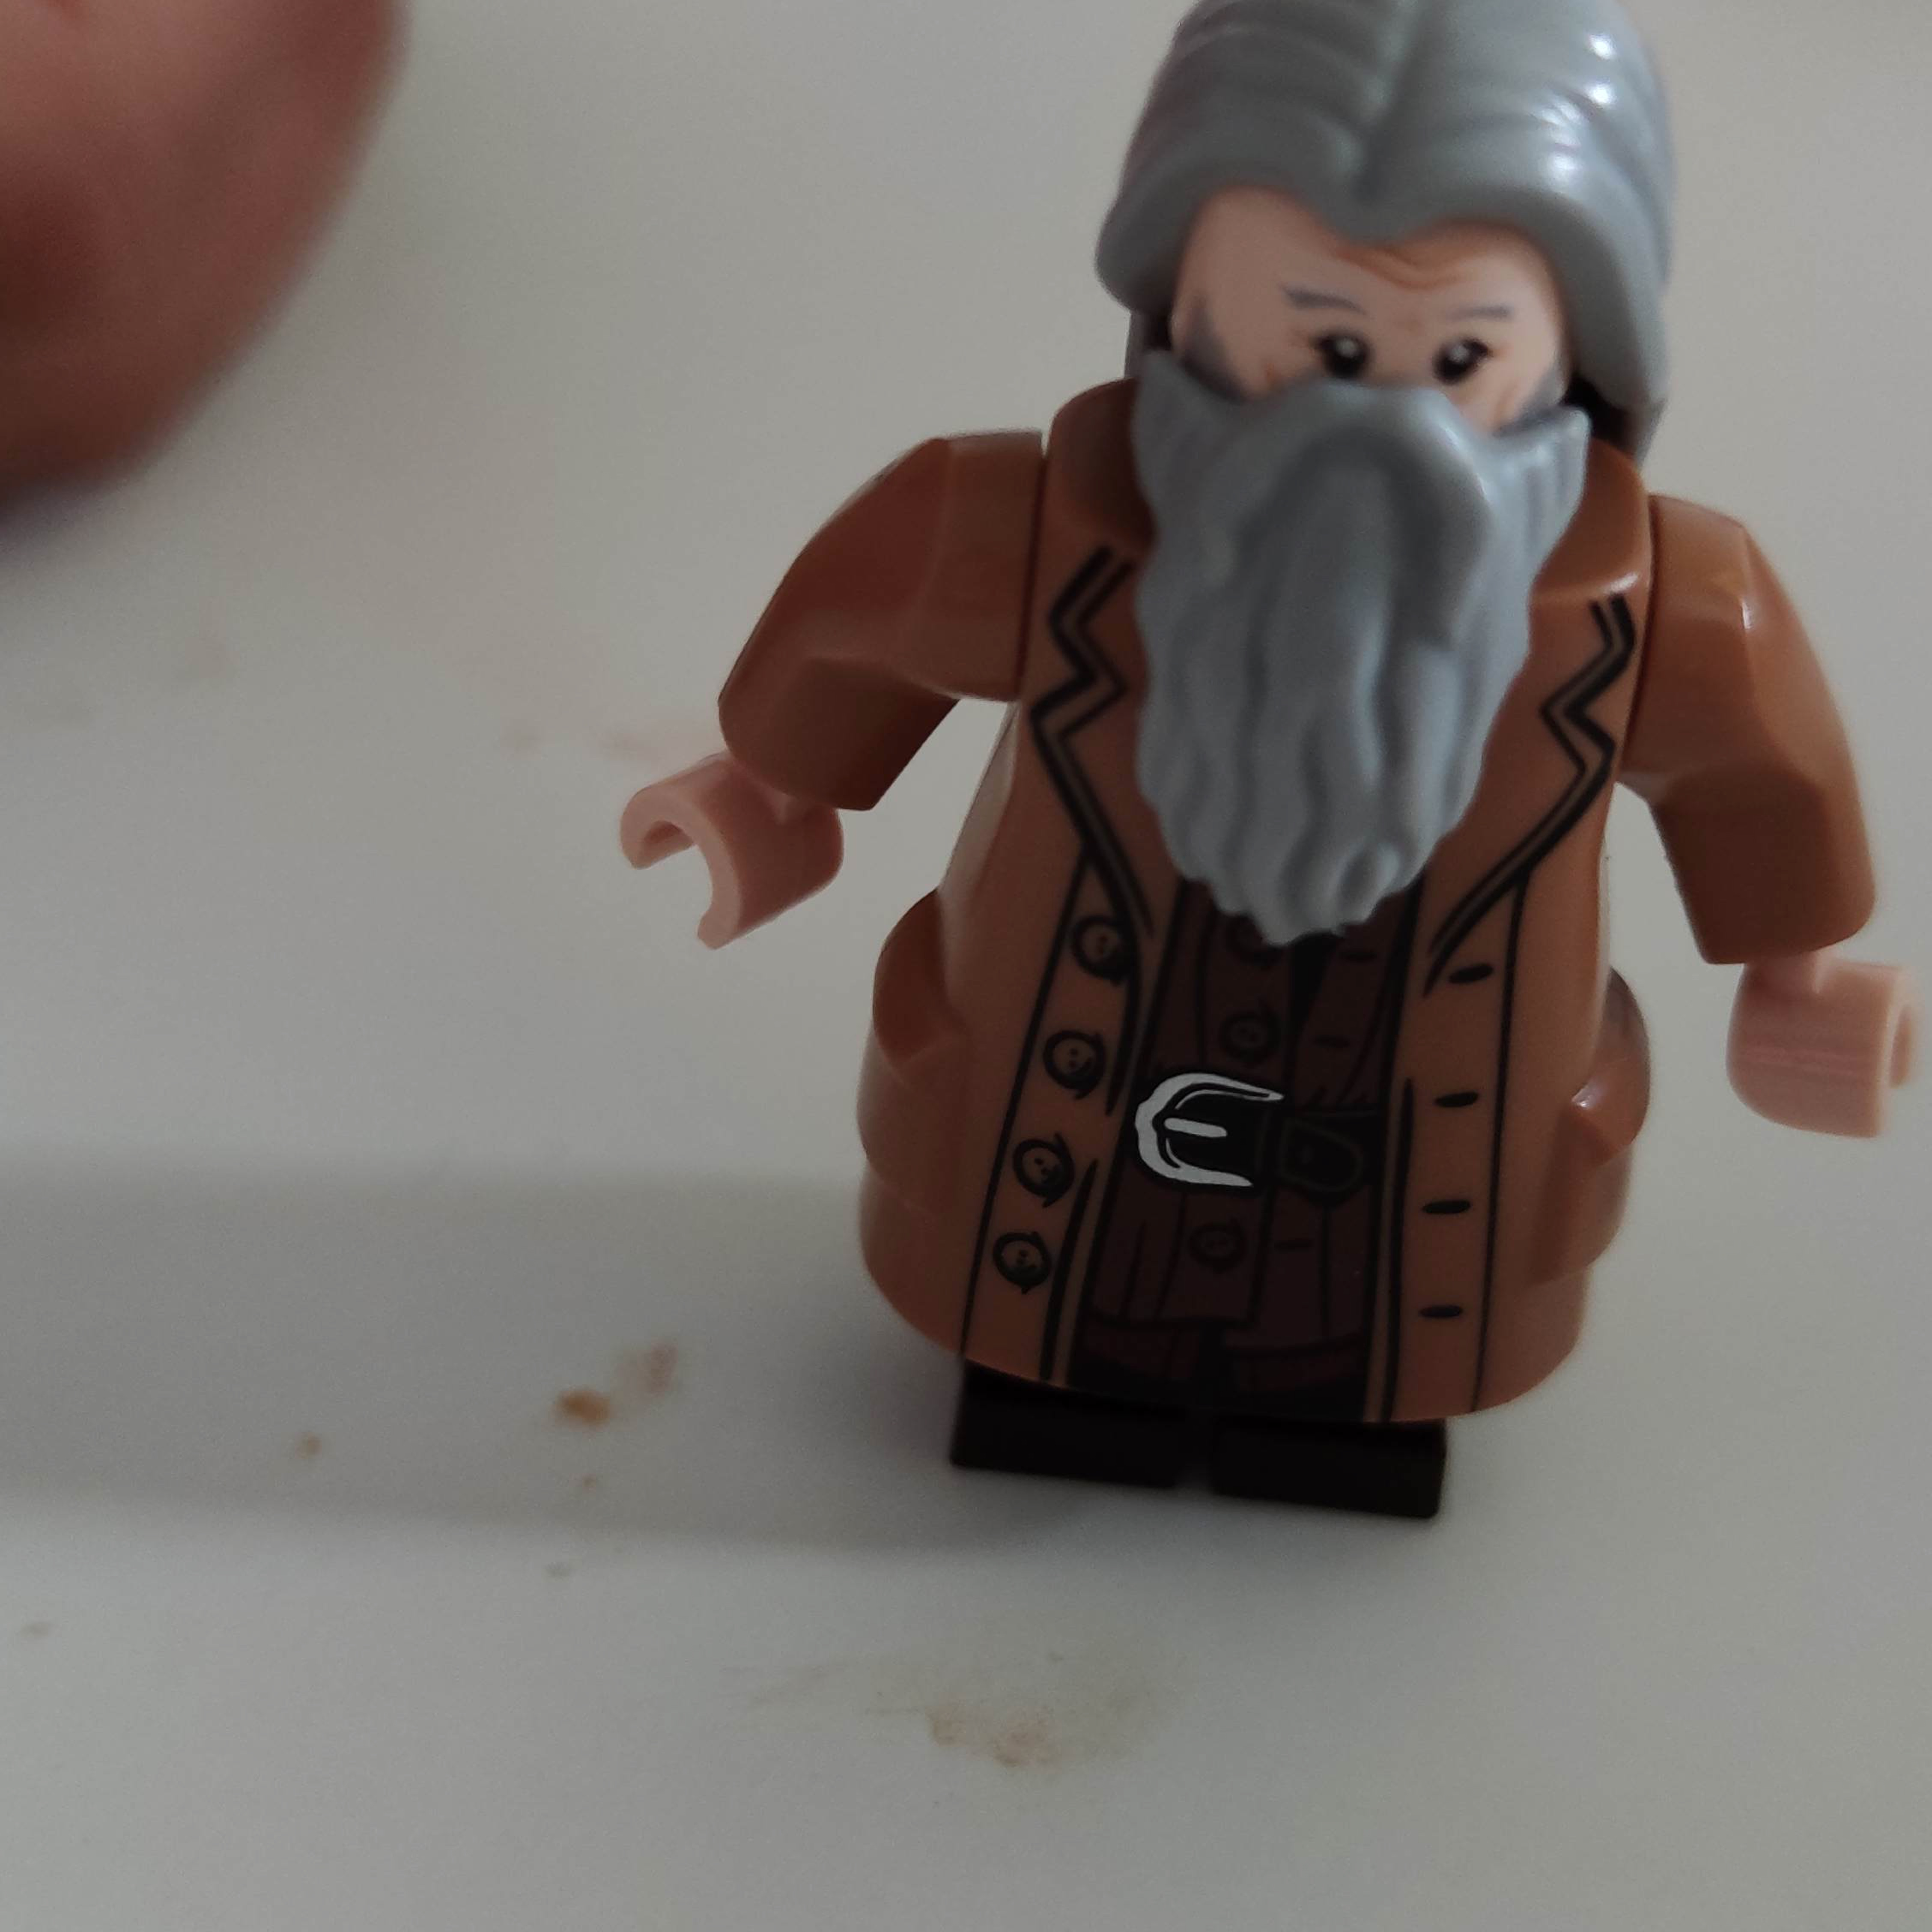lego: (632, 0, 1918, 1527)
